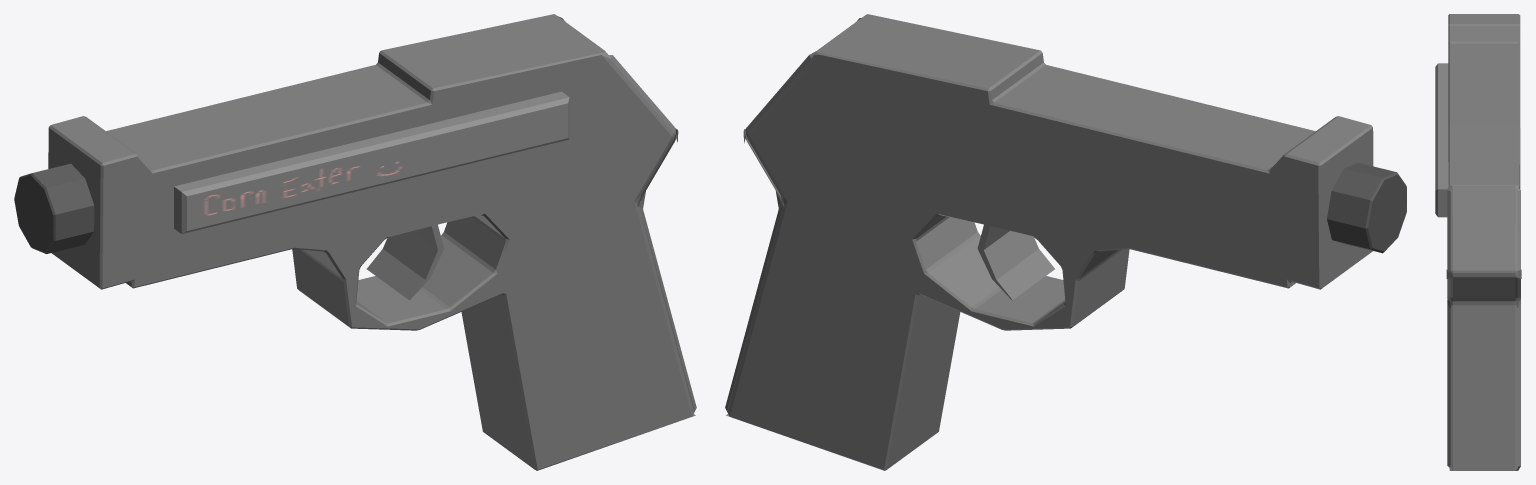
File: Pistol.fbx
3 renders of one model, left to right at view 1: azimuth 30°, elevation 25°; view 2: azimuth 150°, elevation 25°; view 3: azimuth 270°, elevation 25°, orthographic. The views are drawn at different scales.
Visible parts, largest first — view 1: Plane; view 2: Plane; view 3: Plane.
Boxes of the visible parts, x1,y1,x2,y2 form: Plane: (14, 14, 696, 470); Plane: (725, 14, 1406, 470); Plane: (1435, 14, 1521, 470).
Bounding box in the file's own units: 60.79 × 37.81 × 10.7.
